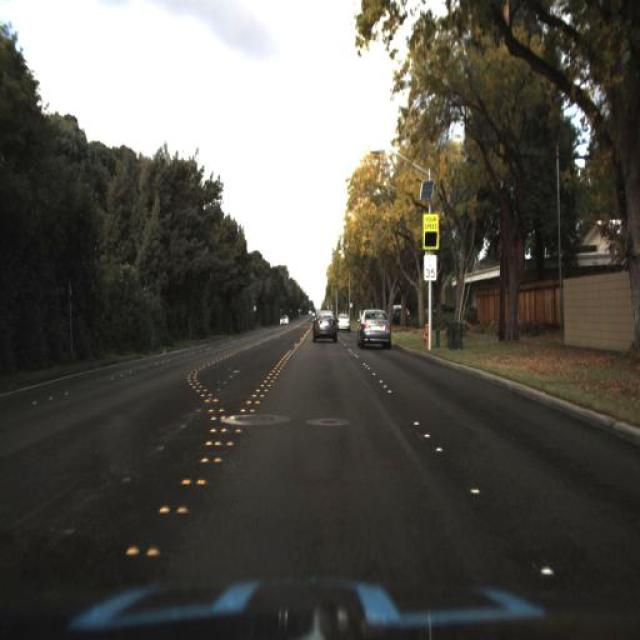car: (355, 301, 397, 350), (308, 305, 341, 344), (276, 304, 292, 330), (336, 307, 352, 332)
